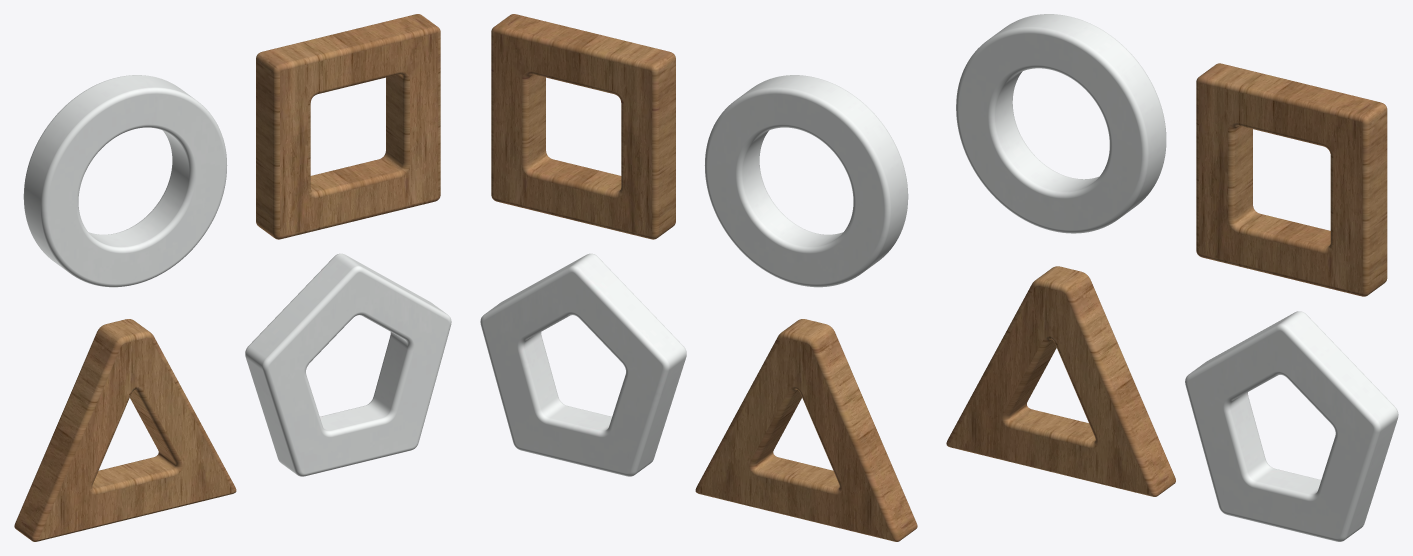
The model's file is components.glb.
3 views of the same model, side by side, from view 1: azimuth 30°, elevation 25°; view 2: azimuth 150°, elevation 25°; view 3: azimuth 330°, elevation 25° (orthographic). The views are drawn at different scales.
Parts seen in each view (by area): view 1: Icon; view 2: Icon; view 3: Icon.
Boxes of the visible parts, x1,y1,x2,y2 form: Icon: [14, 14, 451, 541]; Icon: [480, 14, 917, 541]; Icon: [946, 14, 1398, 541].
Size of the model in its own units: 0.2 by 0.1949 by 0.0177.
2 materials, 2 textured.
